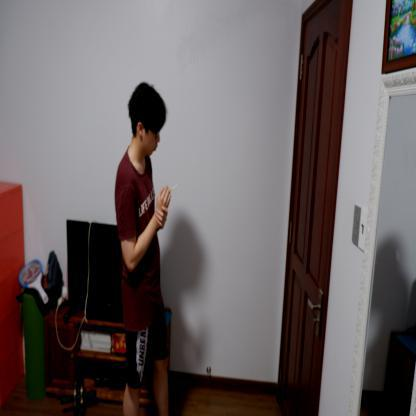cigarette: (170, 183, 179, 194)
person: (111, 77, 174, 415)
